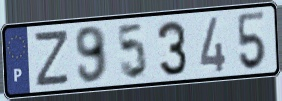3: (155, 18, 189, 78)
4: (198, 15, 228, 75)
5: (235, 9, 269, 73), (115, 21, 149, 82)
9: (73, 24, 110, 86)
Z: (34, 27, 71, 89)
